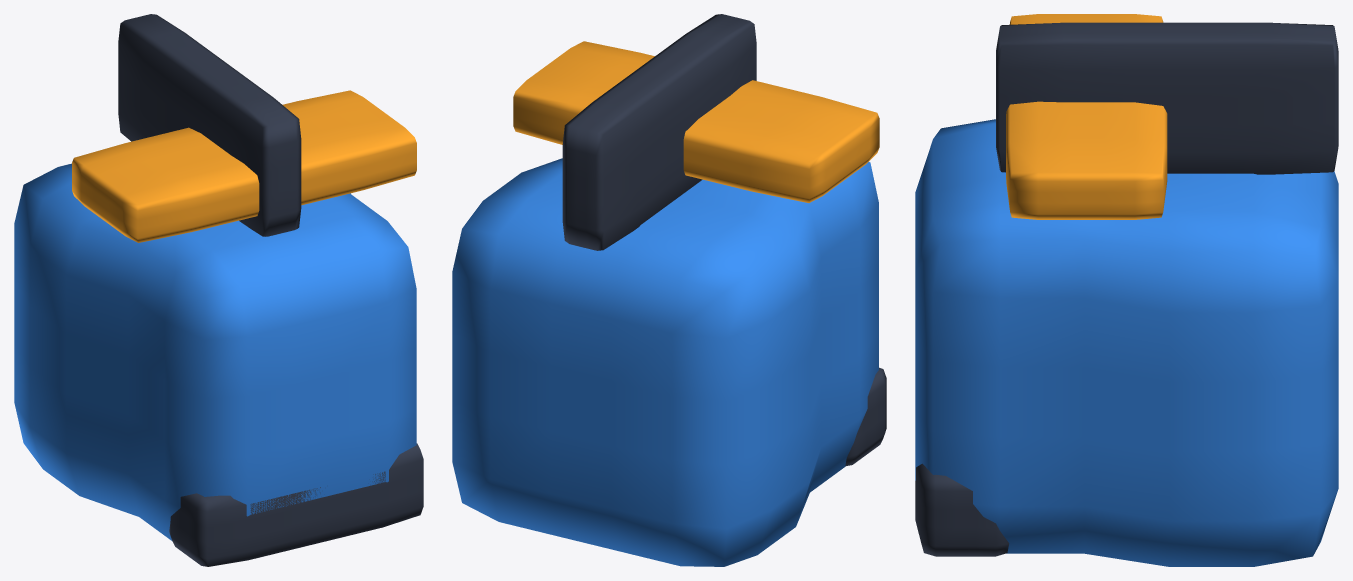
Rendered from head_samurai.obj.
3 views of the same model, side by side, from view 1: azimuth 30°, elevation 25°; view 2: azimuth 150°, elevation 25°; view 3: azimuth 270°, elevation 25° (orthographic). The views are drawn at different scales.
Bounding box in the file's own units: 0.38 × 0.525 × 0.42.
